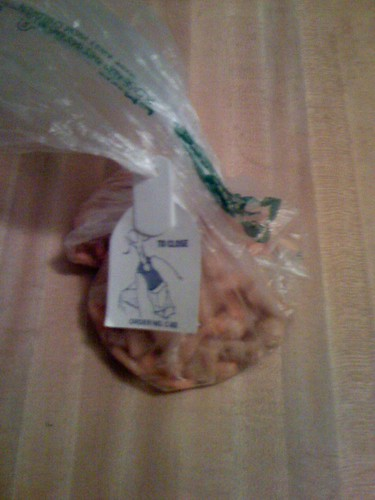plastic bag: (1, 1, 311, 395)
